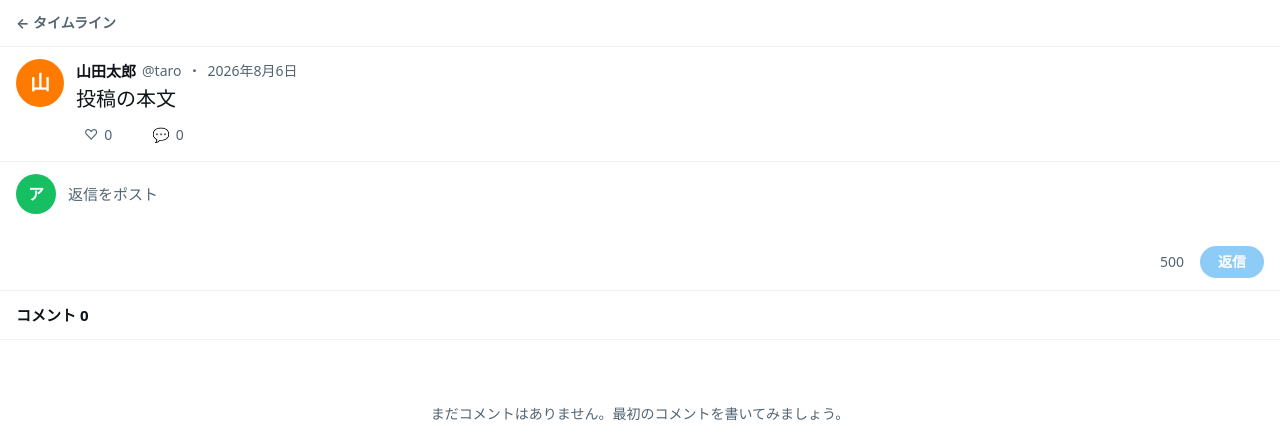
PostDetailPage › いいねは投稿本体の件数と状態を差し替える
Click the button named "いいね": (98, 135) left=76, top=121, right=120, bottom=149
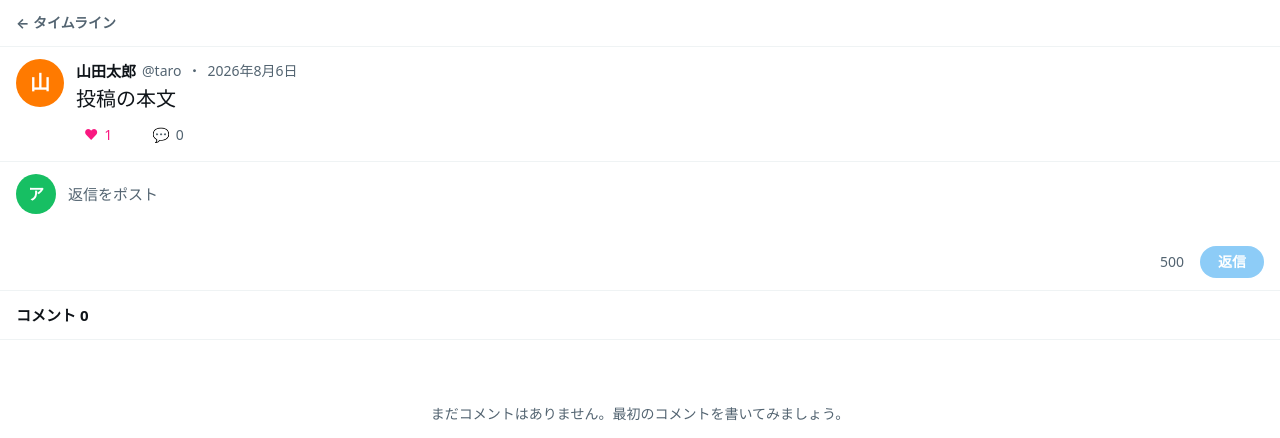
Expected: the button named "いいね" shows "1", left=76, top=121, right=120, bottom=149
